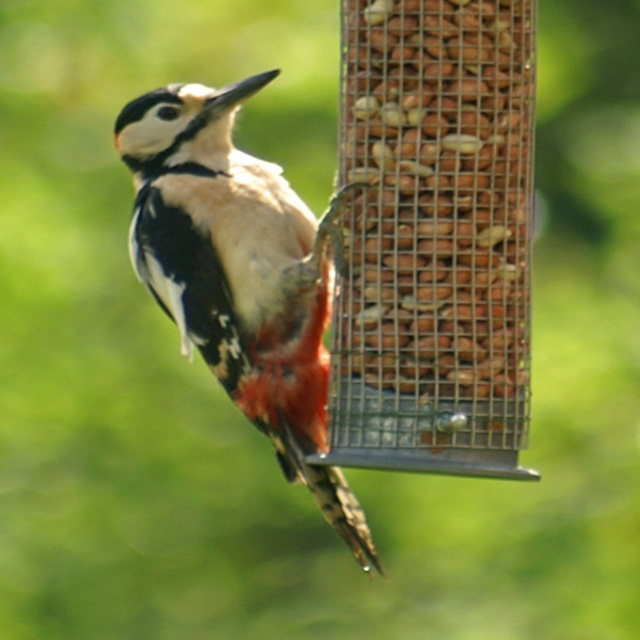Woodpecker: (112, 68, 392, 582)
